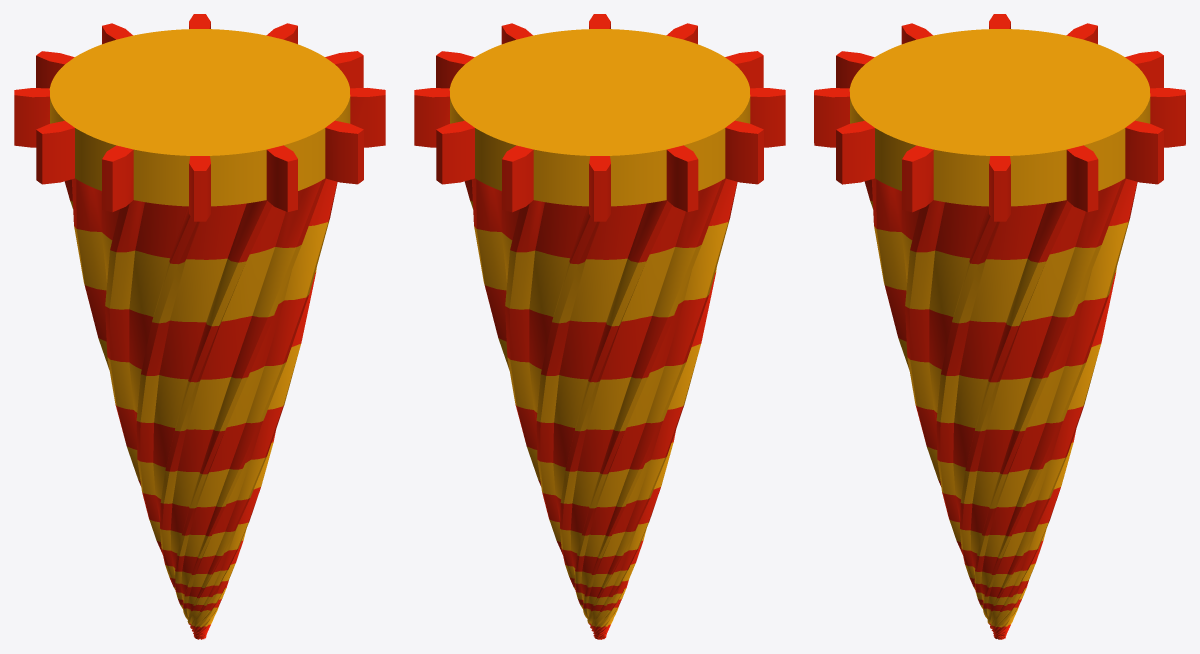
File: Screw.fbx
The picture shows the model from 3 angles, left to right: view 1: azimuth 30°, elevation 25°; view 2: azimuth 150°, elevation 25°; view 3: azimuth 270°, elevation 25°; orthographic projection.
Parts seen in each view (by area): view 1: Worm Gear; view 2: Worm Gear; view 3: Worm Gear.
Part boxes in pixels (left/top/right/bottom): Worm Gear: left=14, top=14, right=385, bottom=639; Worm Gear: left=414, top=14, right=785, bottom=639; Worm Gear: left=814, top=14, right=1185, bottom=639.
Bounding box in the file's own units: 197 × 319 × 197.
